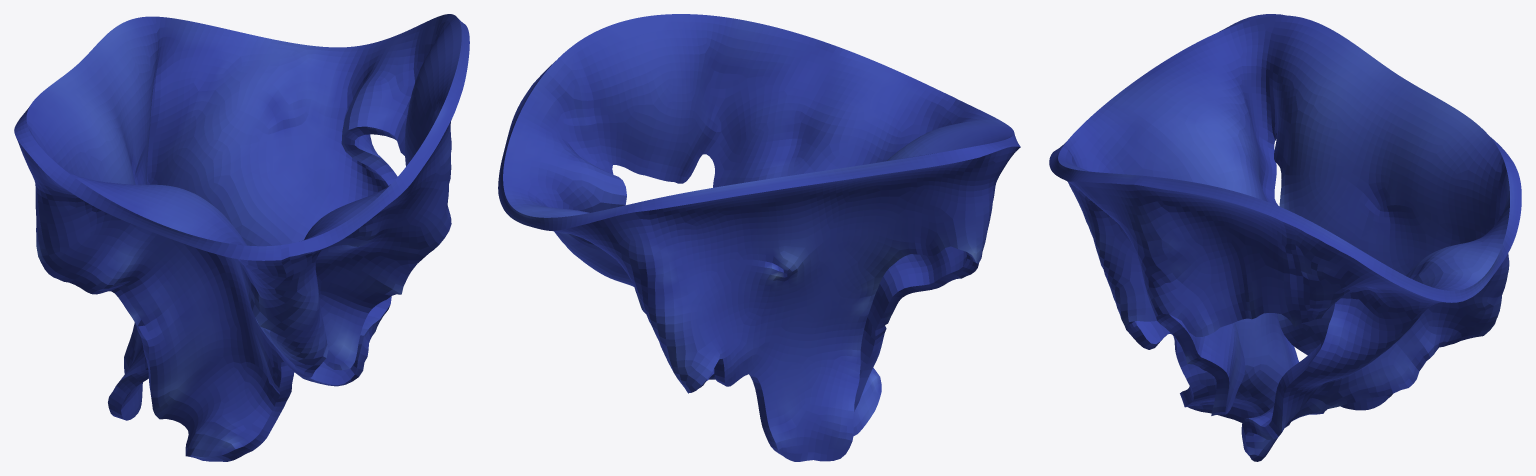
3 renders of one model, left to right at view 1: azimuth 30°, elevation 25°; view 2: azimuth 150°, elevation 25°; view 3: azimuth 270°, elevation 25°, orthographic. The views are drawn at different scales.
Visible parts, largest first — view 1: OCS14_maxS_1; view 2: OCS14_maxS_1; view 3: OCS14_maxS_1.
Boxes of the visible parts, left/top/right/bottom form: OCS14_maxS_1: left=14, top=14, right=469, bottom=461; OCS14_maxS_1: left=498, top=14, right=1020, bottom=461; OCS14_maxS_1: left=1049, top=14, right=1521, bottom=461.
Bounding box in the file's own units: 1.45 × 1.1 × 1.33.
